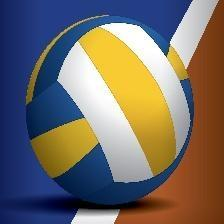Sports-Ball: (28, 14, 195, 207)
